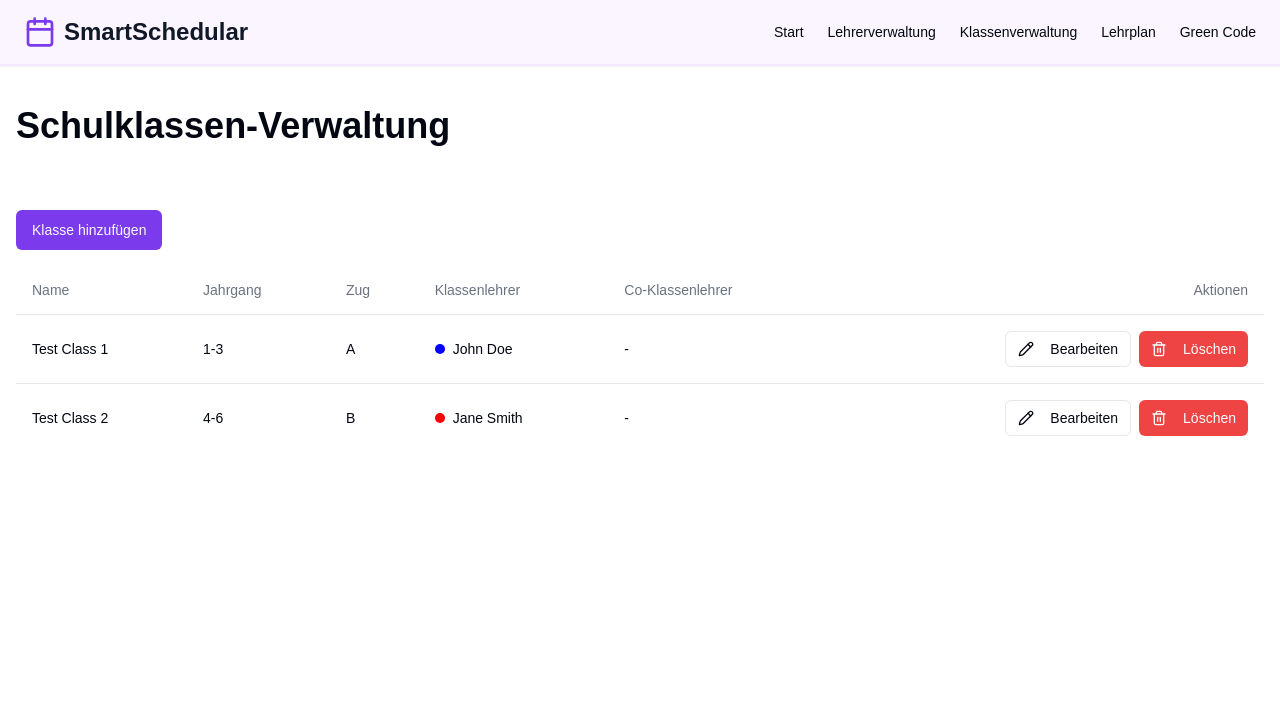
SchulklassenVerwaltung Page › shows "Klasse hinzufügen" button and opens dialog on click
The image size is (1280, 720).
Click the button "Klasse hinzufügen": (89, 230) [16, 210, 162, 250]
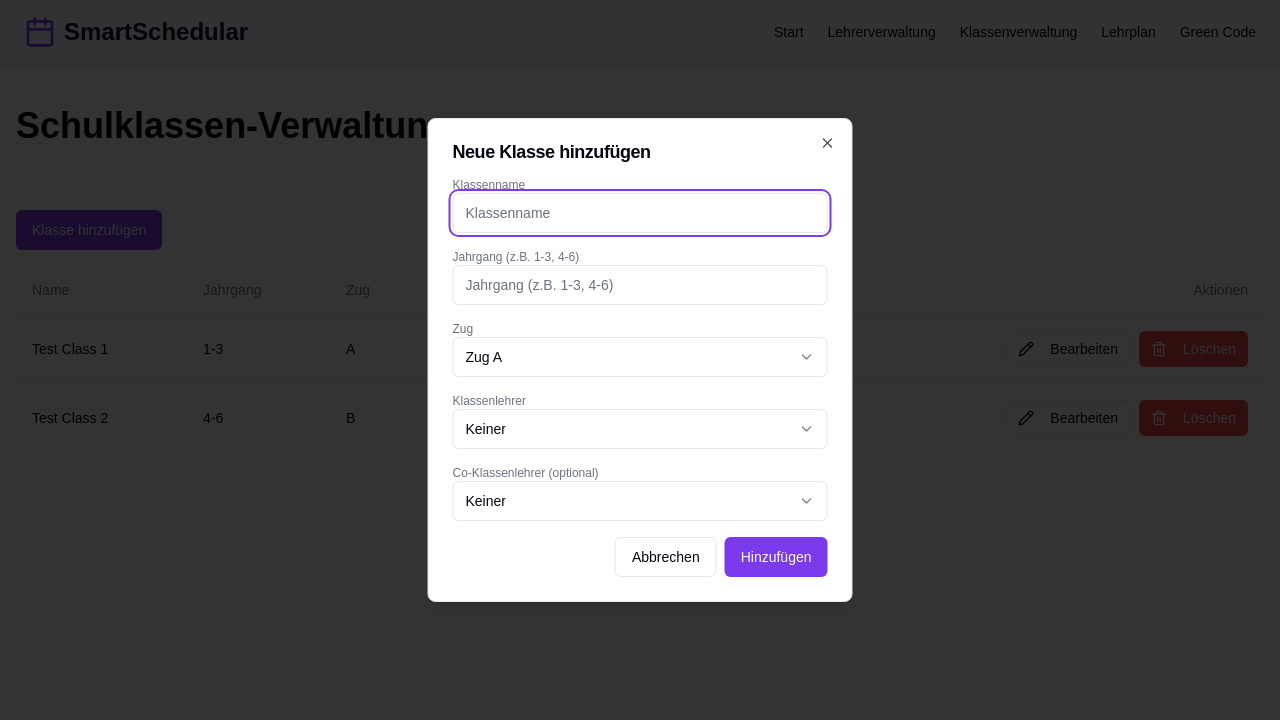
Expected: the heading "Neue Klasse hinzufügen" is shown, [452, 142, 651, 162]
